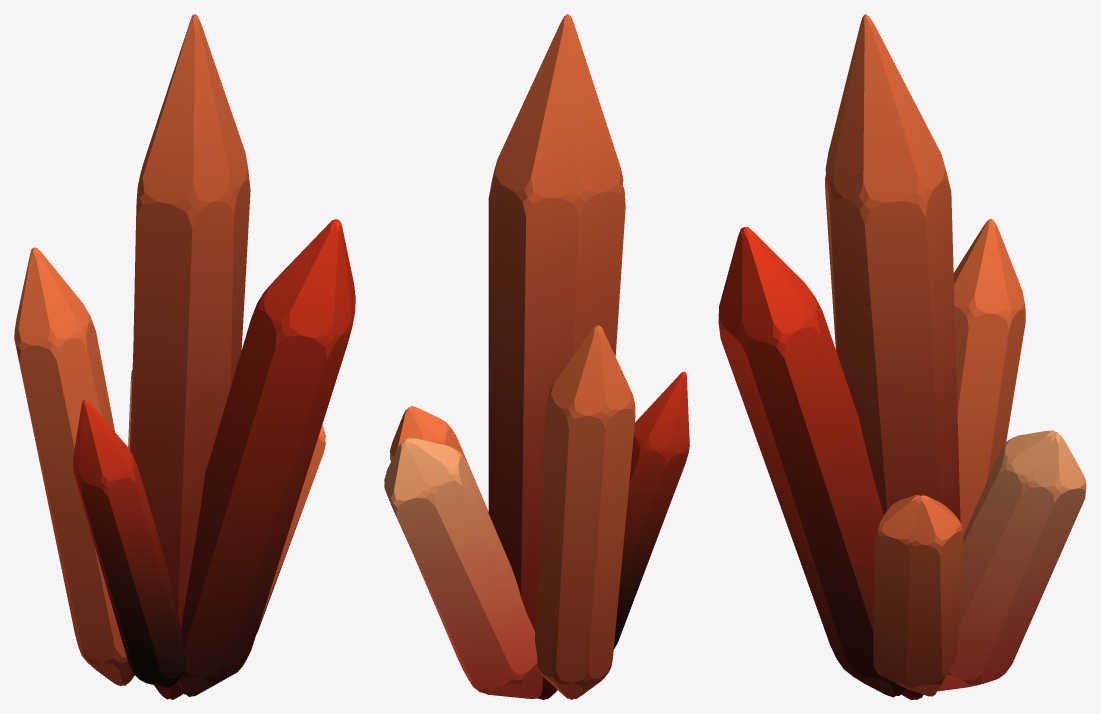
Rendered from crystal_feu.fbx.
3 views of the same model, side by side, from view 1: azimuth 30°, elevation 25°; view 2: azimuth 150°, elevation 25°; view 3: azimuth 270°, elevation 25° (orthographic). The views are drawn at different scales.
Visible parts, largest first — view 1: Cylinder, Cylinder.005, Cylinder.001, Cylinder.004, Cylinder.003; view 2: Cylinder, Cylinder.001, Cylinder.002, Cylinder.004, Cylinder.003; view 3: Cylinder, Cylinder.005, Cylinder.002, Cylinder.003, Cylinder.001.
Part boxes in pixels (left/top/right/bottom): Cylinder: left=130, top=14, right=250, bottom=699; Cylinder.005: left=177, top=219, right=355, bottom=696; Cylinder.001: left=14, top=247, right=134, bottom=685; Cylinder.004: left=73, top=400, right=186, bottom=687; Cylinder.003: left=256, top=425, right=325, bottom=634; Cylinder: left=488, top=14, right=625, bottom=699; Cylinder.001: left=535, top=325, right=635, bottom=699; Cylinder.002: left=384, top=437, right=543, bottom=698; Cylinder.004: left=613, top=371, right=689, bottom=649; Cylinder.003: left=390, top=406, right=488, bottom=512; Cylinder: left=825, top=14, right=960, bottom=699; Cylinder.005: left=718, top=227, right=905, bottom=697; Cylinder.002: left=937, top=430, right=1086, bottom=691; Cylinder.003: left=873, top=495, right=963, bottom=696; Cylinder.001: left=953, top=219, right=1025, bottom=534.
Bounding box in the file's own units: 37.61 × 92.47 × 44.98.
Materials: 1 (1 with a texture image).
